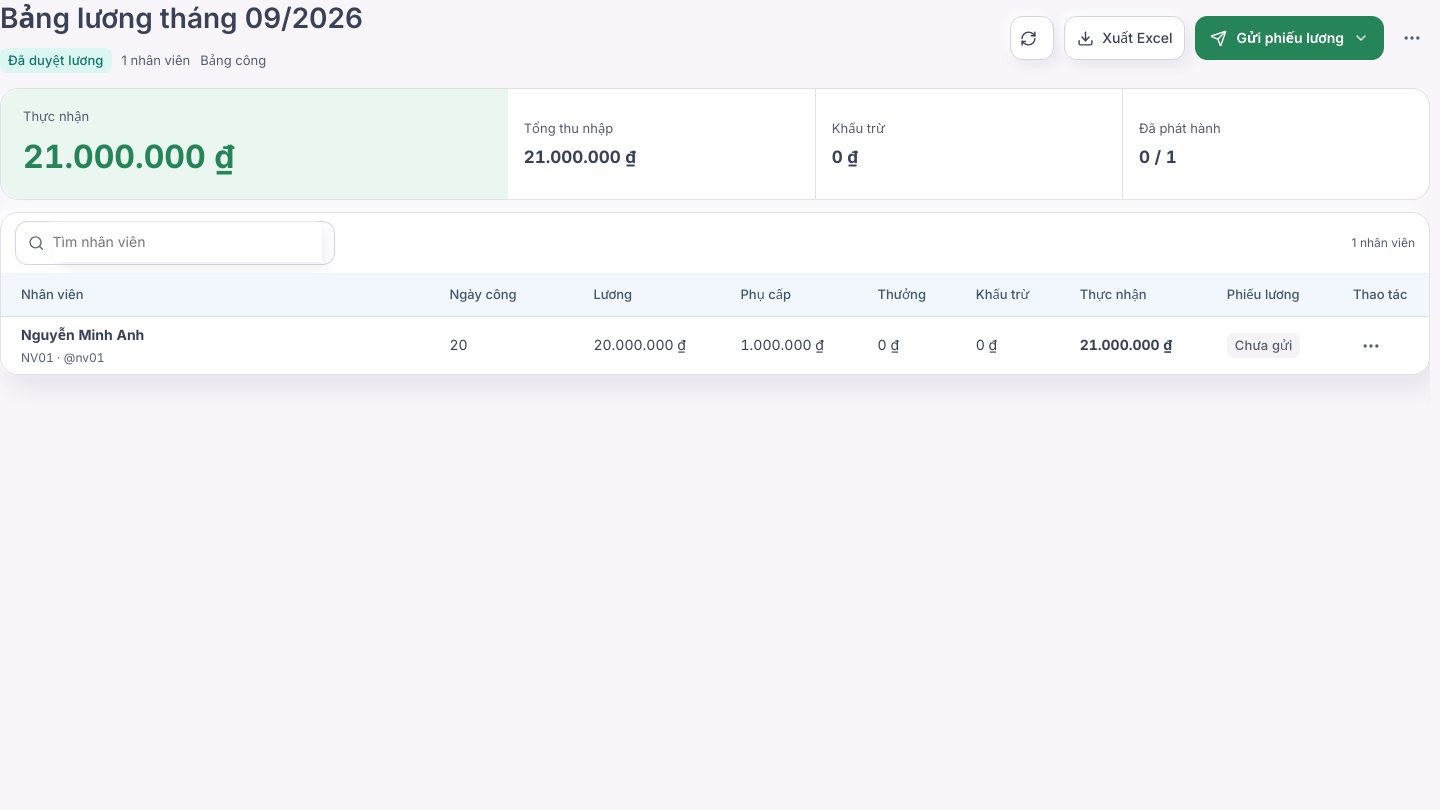
Scenario: simple accountant approval › edits approved unsent salary and preserves values after a conflict
The width and height of the screenshot is (1440, 810).
Click the button named "Thao tác lương Nguyễn Minh Anh" at (1371, 346), box x1=1353 y1=328 x2=1389 y2=364
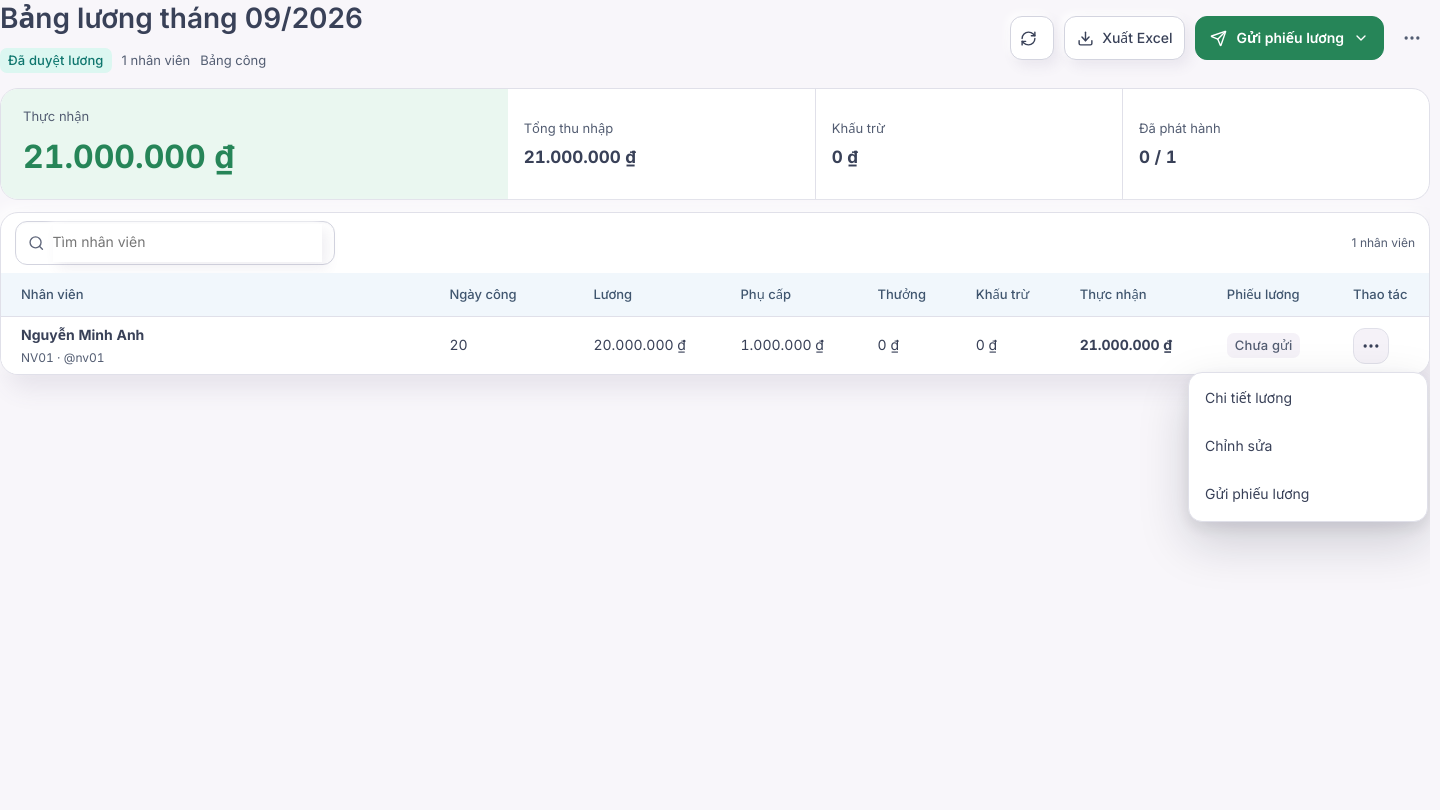
Click the menu item "Chỉnh sửa" at (1308, 447), box x1=1193 y1=425 x2=1423 y2=469
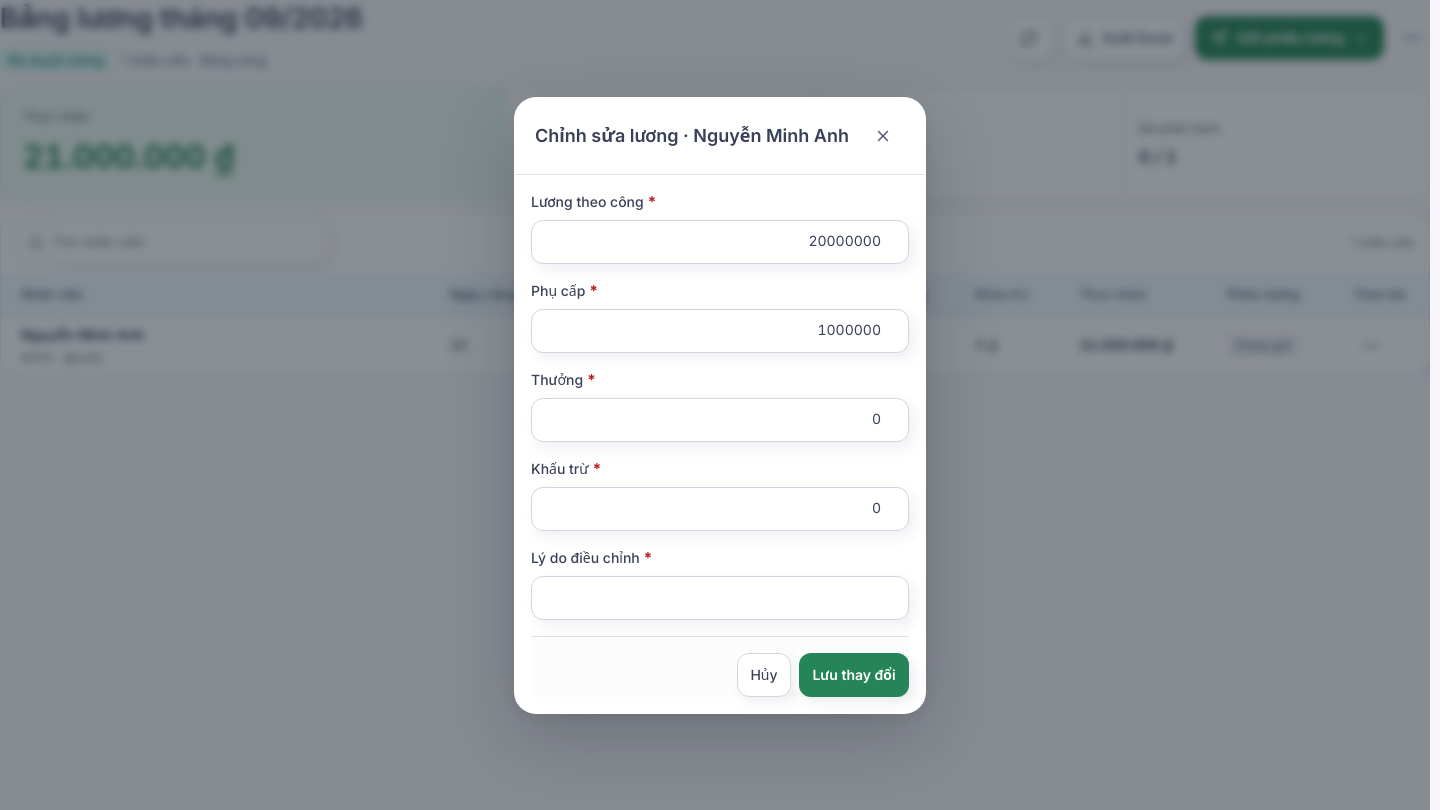
Replace the text in the number field labelled "Phụ cấp *" with "2500000" at (720, 330), box x1=531 y1=308 x2=909 y2=352
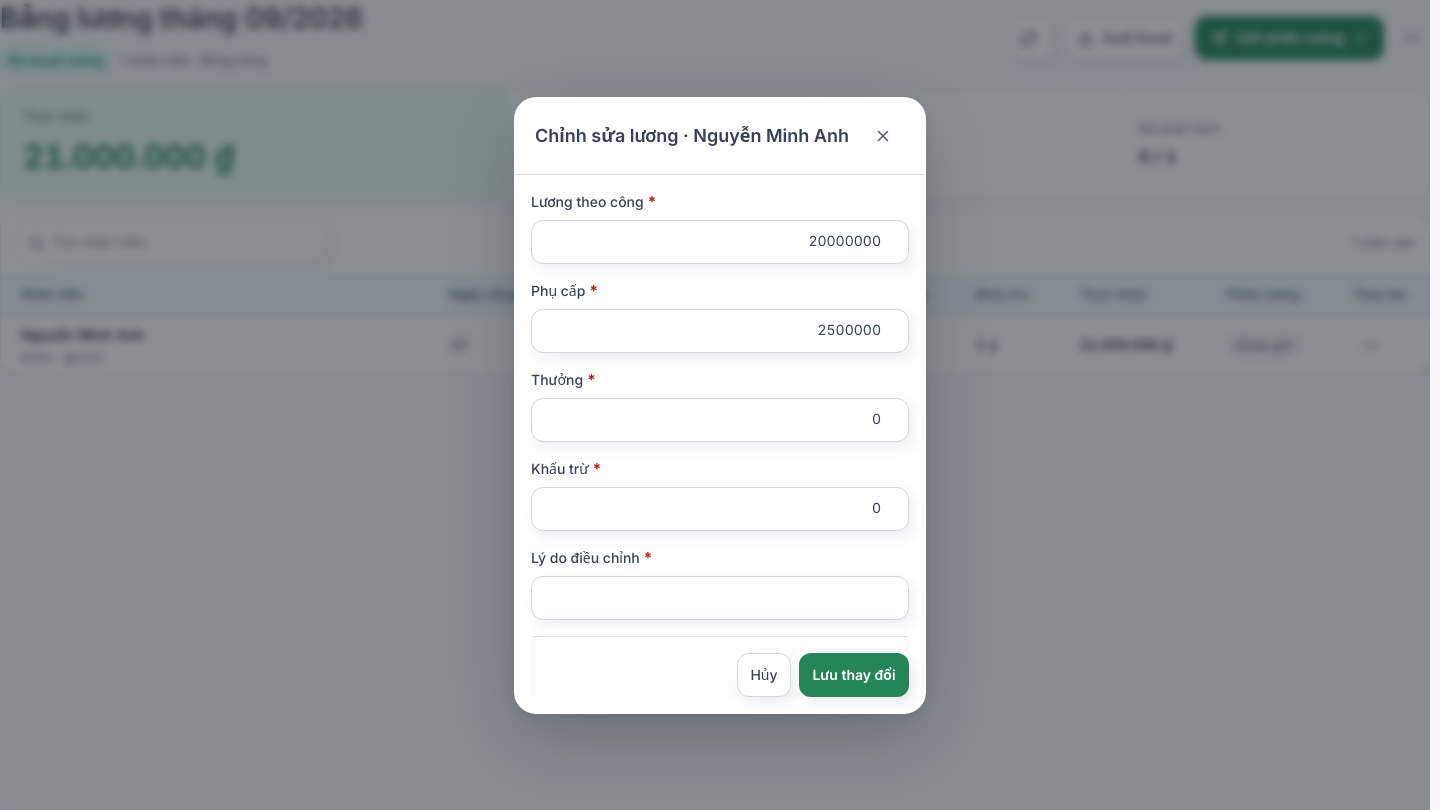
Type "Điều chỉnh tiền ăn" into the field labelled "Lý do điều chỉnh *" at (720, 598), box x1=531 y1=576 x2=909 y2=620
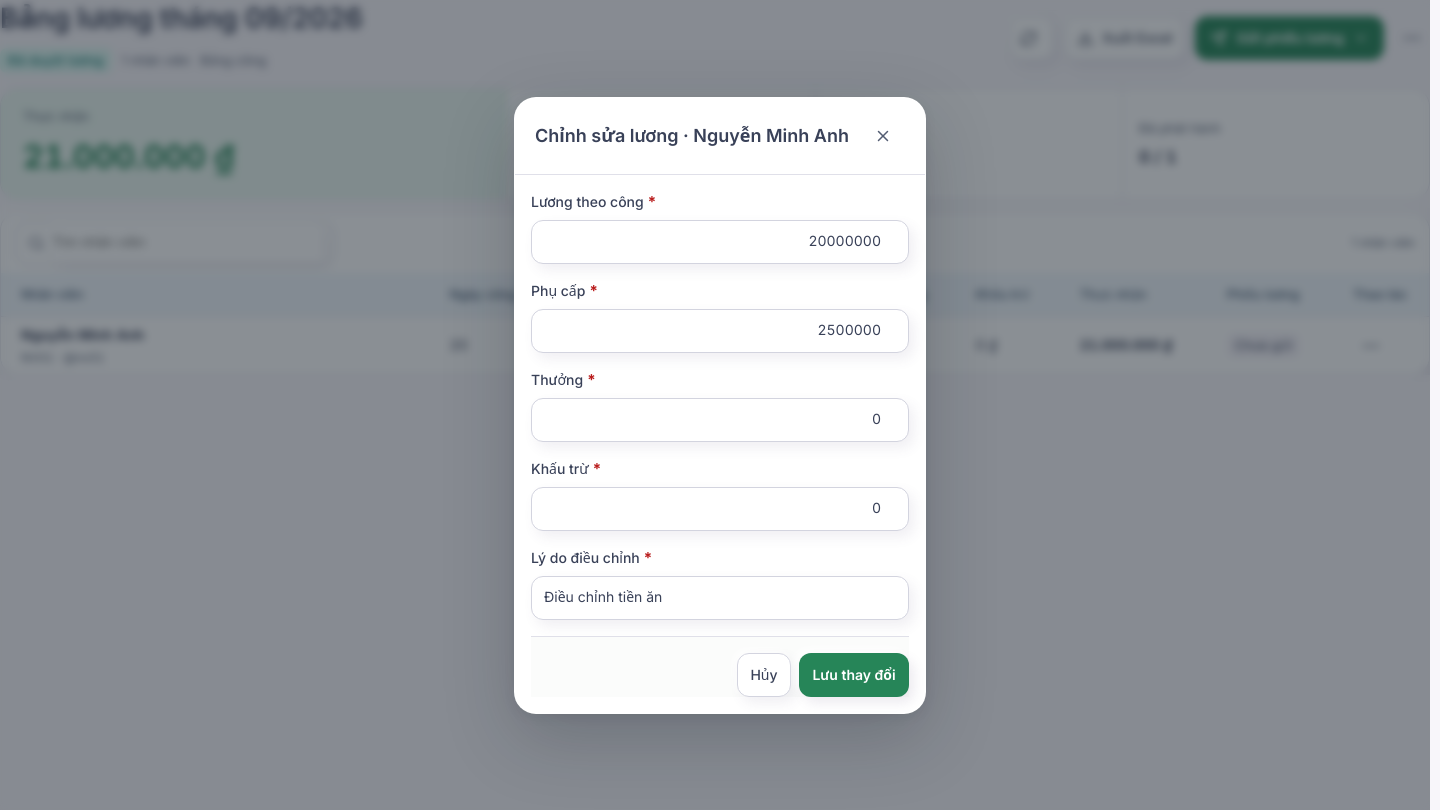
Submit the form, box x1=515 y1=174 x2=925 y2=712
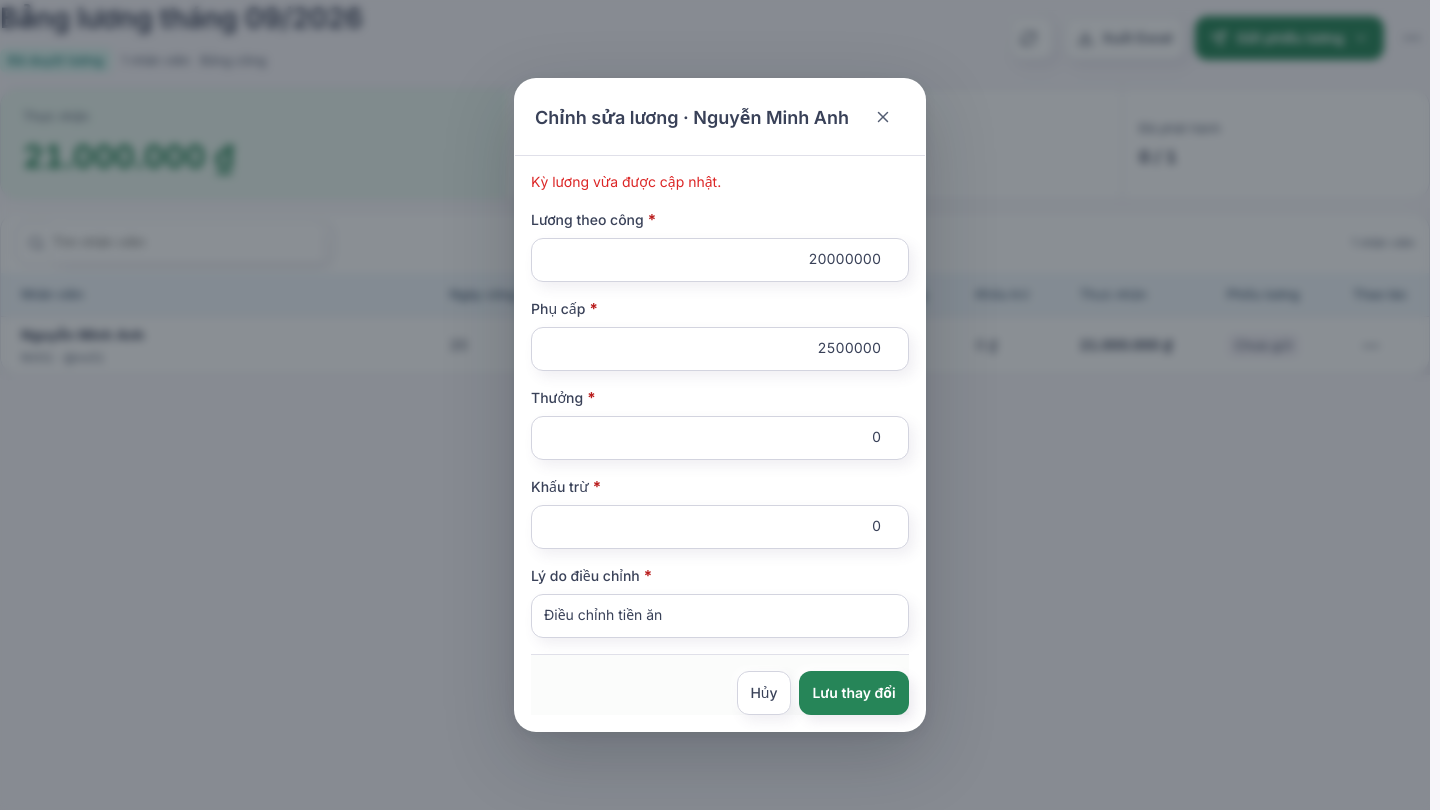
Check: the button "Lưu thay đổi" is enabled, box x1=799 y1=671 x2=909 y2=715
Check: the text "Kỳ lương vừa được cập nhật." is shown, box x1=531 y1=173 x2=721 y2=190
